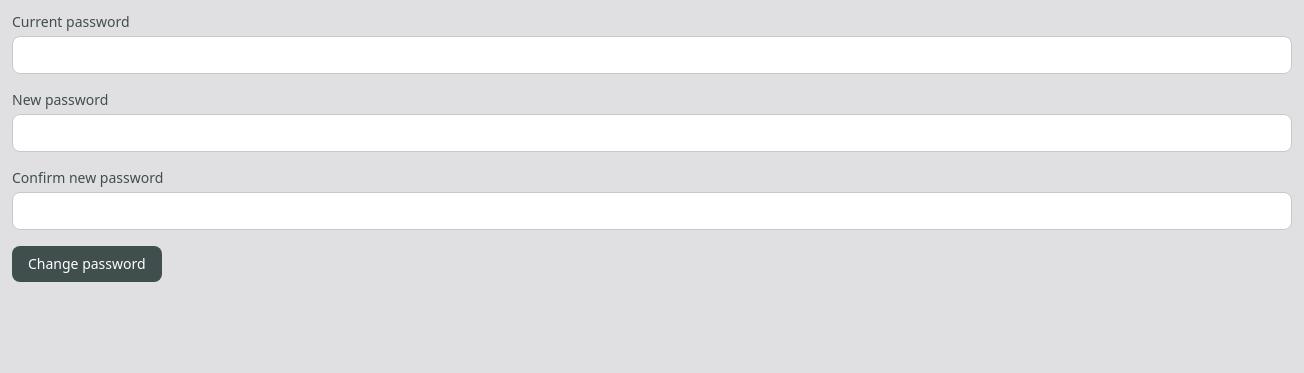
ChangePasswordForm › validates required current password, min length, and match
This screenshot has width=1304, height=373.
Type "short" into the password field labelled "New password" at (652, 133), box [12,114,1292,152]
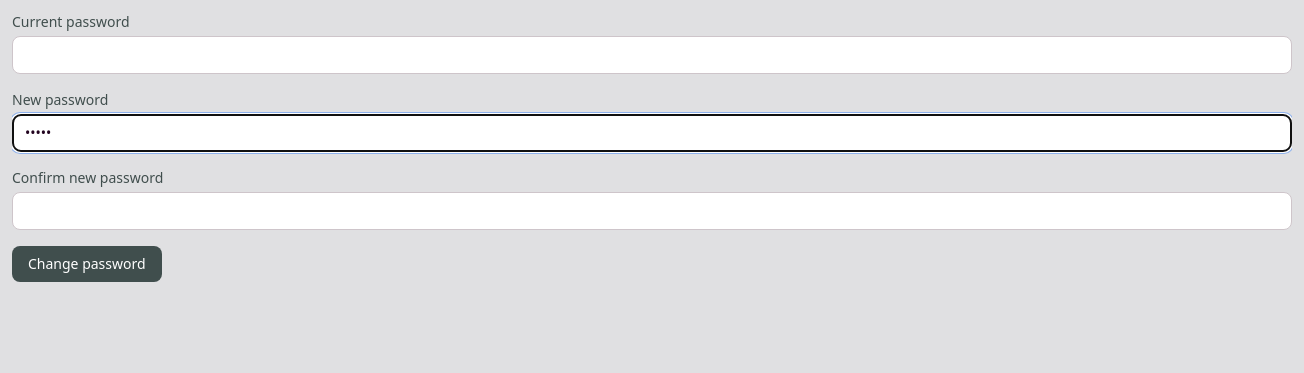
Type "different" into the password field labelled "Confirm new password" at (652, 211), box [12,192,1292,230]
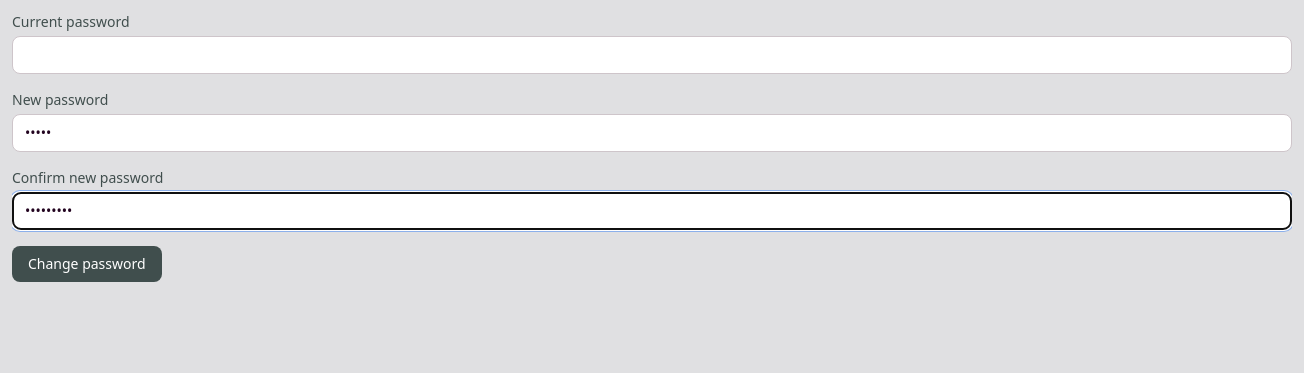
Click the button "Change password" at (87, 264), box [12,246,162,282]
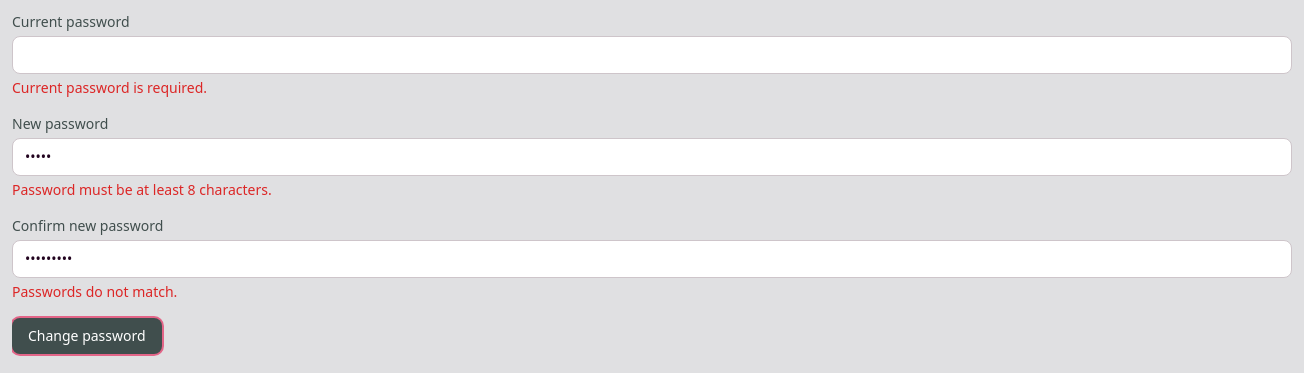
Result: the text "Current password is required." is shown at [12,78,207,97]
Result: the text "Password must be at least 8 characters." is shown at [12,180,272,199]
Result: the text "Passwords do not match." is shown at [12,282,177,301]
